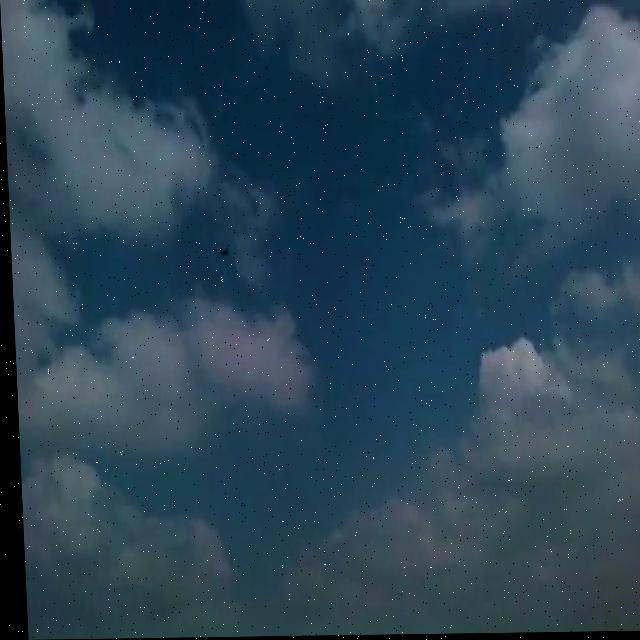drone: (213, 243, 229, 260)
